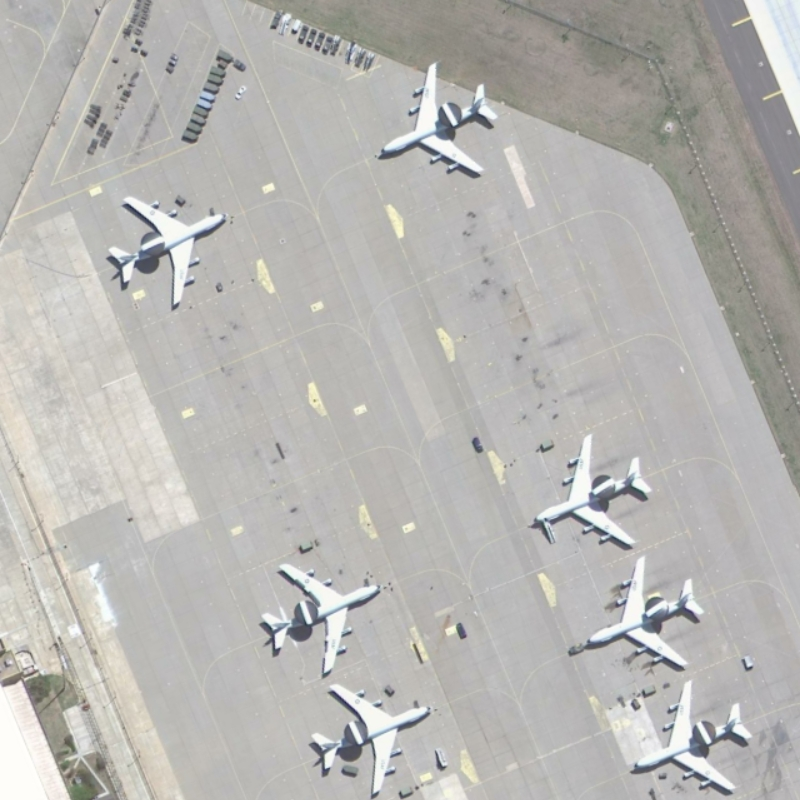A7: (370, 58, 505, 190), (254, 551, 390, 679), (574, 552, 709, 680), (527, 428, 658, 555), (105, 189, 233, 317), (624, 677, 757, 797), (308, 682, 439, 800)
